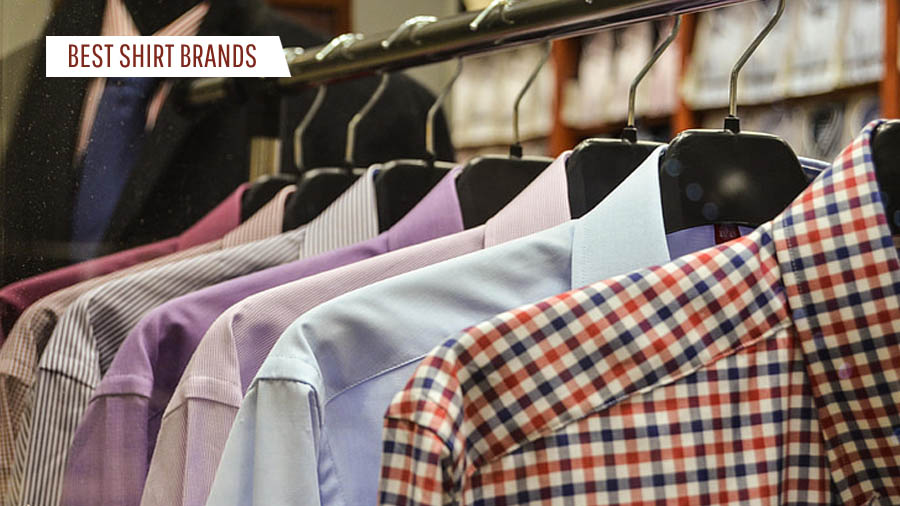long-sleeved shirt: (380, 124, 900, 506), (231, 184, 385, 490)
